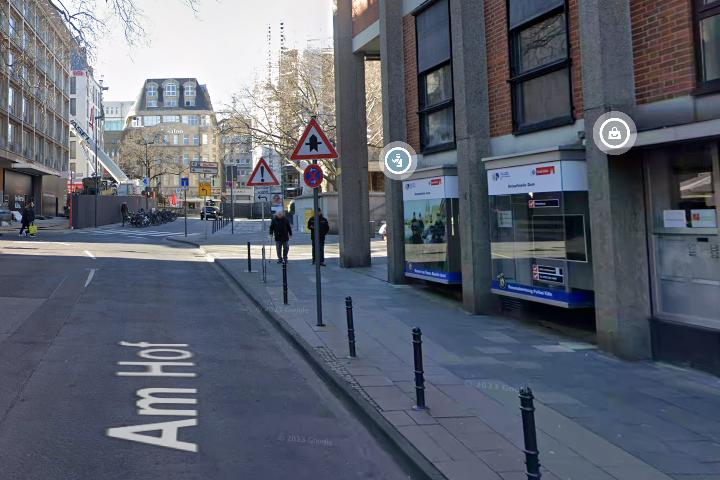google_maps: (600, 117, 631, 148), (384, 145, 412, 173)
traffic_sign: (290, 117, 339, 160), (246, 157, 279, 187), (303, 164, 324, 189)
